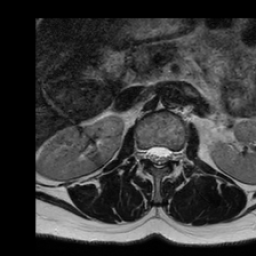CCS_normal: (154, 138, 162, 173)
LFS_normal: (171, 142, 179, 165)
LLS_normal: (162, 139, 171, 165)
RFS_normal: (137, 141, 146, 164)
RLS_normal: (145, 140, 154, 164)
